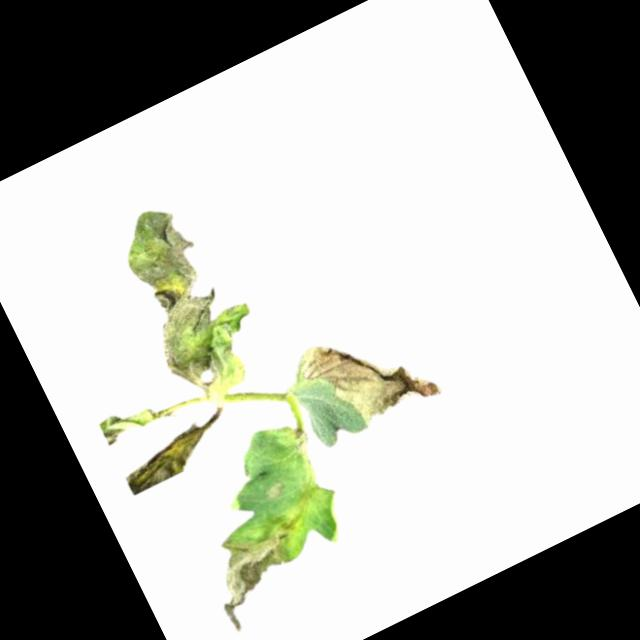Late_blight: (98, 190, 276, 409), (295, 301, 446, 444), (193, 505, 333, 639), (117, 420, 214, 494)
